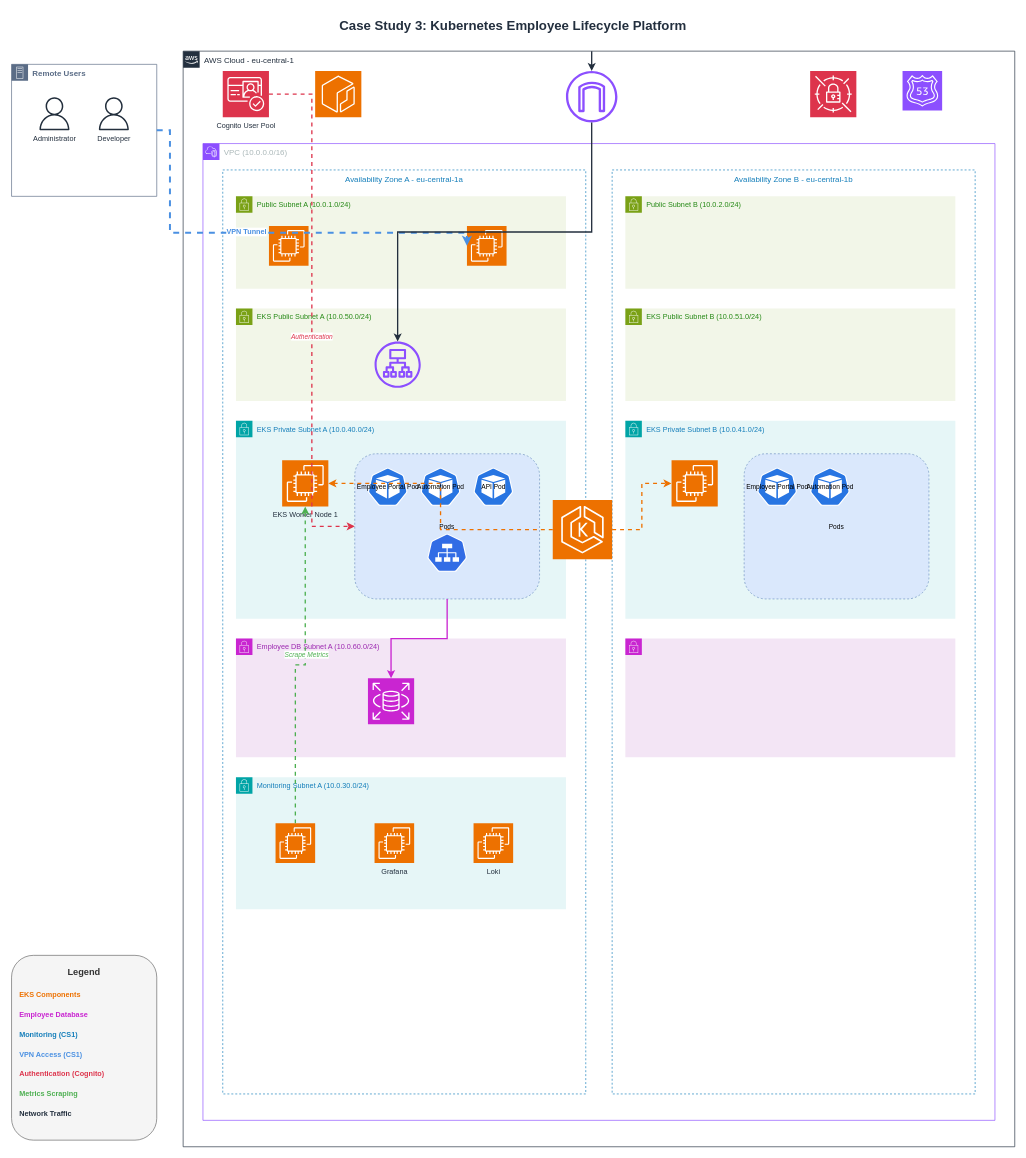
This 1026x1158 diagram has some shape labels left out. The centre of each missing label's shape, as x and y in pixels:
"Application Load Balancer (K8s Ingress)" goes at [397,364].
"ClusterIP Services" goes at [447,552].
"ECR (Container Registry)" goes at [337,93].
"EKS Control Plane (Managed by AWS)" goes at [582,529].
"EKS Worker Node 2" goes at [694,483].
"Employee Database (PostgreSQL)" goes at [390,700].
"Employee DB Subnet B (10.0.61.0/24)" goes at [790,697].
"Internet Gateway" goes at [591,96].
"NAT Instance" goes at [288,245].
"OpenVPN" goes at [486,245].
"Prometheus" goes at [295,843].
"Route 53 Private DNS" goes at [922,90].
"Secrets Manager" goes at [832,93].
